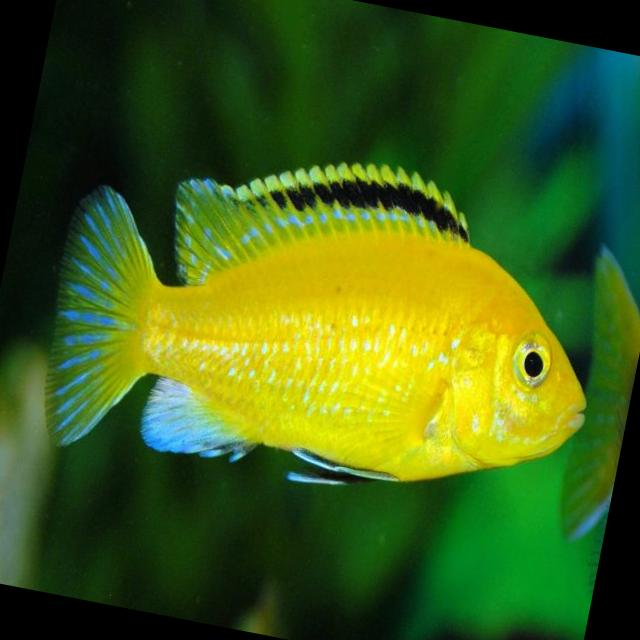YellowCichlid: (15, 105, 632, 556)
